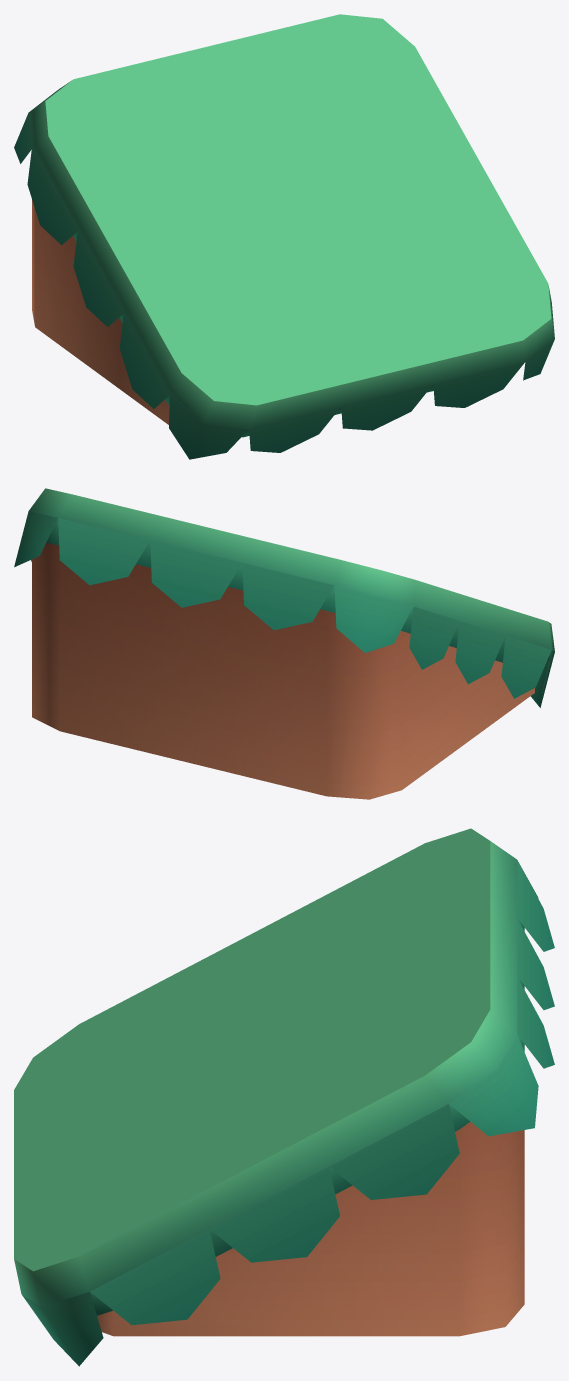
Rendered from block-grass-overhang-large-slope-steep.glb.
The picture shows the model from 3 angles, top to bottom: view 1: azimuth 30°, elevation 25°; view 2: azimuth 150°, elevation 25°; view 3: azimuth 270°, elevation 25°; orthographic projection. The views are drawn at different scales.
Parts seen in each view (by area): view 1: block-grass-overhang-large-slope-steep; view 2: block-grass-overhang-large-slope-steep; view 3: block-grass-overhang-large-slope-steep.
Boxes of the visible parts, left/top/right/bottom form: block-grass-overhang-large-slope-steep: left=14, top=14, right=554, bottom=459; block-grass-overhang-large-slope-steep: left=14, top=488, right=554, bottom=799; block-grass-overhang-large-slope-steep: left=14, top=828, right=554, bottom=1366.
Size of the model in its own units: 2.08 by 1.37 by 1.97.
1 material, 1 textured.
